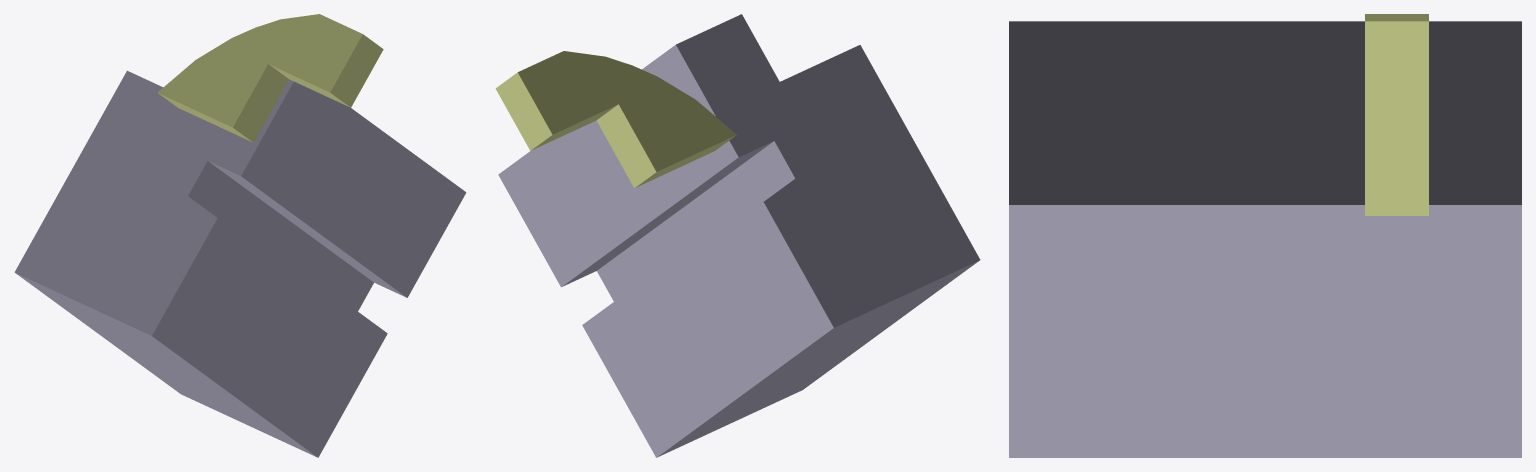
The picture shows the model from 3 angles, left to right: view 1: azimuth 30°, elevation 25°; view 2: azimuth 150°, elevation 25°; view 3: azimuth 270°, elevation 25°; orthographic projection. The views are drawn at different scales.
Parts seen in each view (by area): view 1: 0_0_1_3_1_2_2_2; view 2: 0_0_1_3_1_2_2_2; view 3: 0_0_1_3_1_2_2_2.
Boxes of the visible parts, <box> form: 0_0_1_3_1_2_2_2: <box>14,14,466,457</box>; 0_0_1_3_1_2_2_2: <box>495,14,980,457</box>; 0_0_1_3_1_2_2_2: <box>1009,14,1521,457</box>.
Bounding box in the file's own units: 52.97 × 50.07 × 48.
